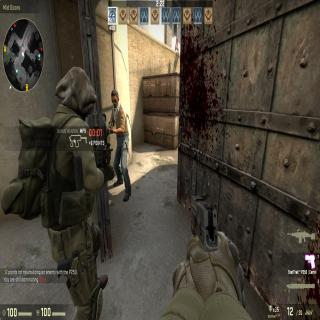CT-Body: (44, 63, 95, 320)
CT-Head: (57, 64, 96, 121)
T-Body: (111, 88, 130, 200)
T-Head: (110, 88, 121, 110)
